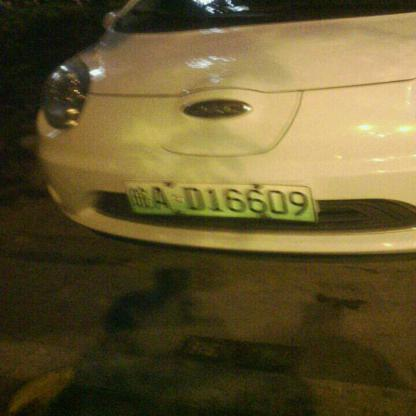lp: (123, 181, 316, 222)
